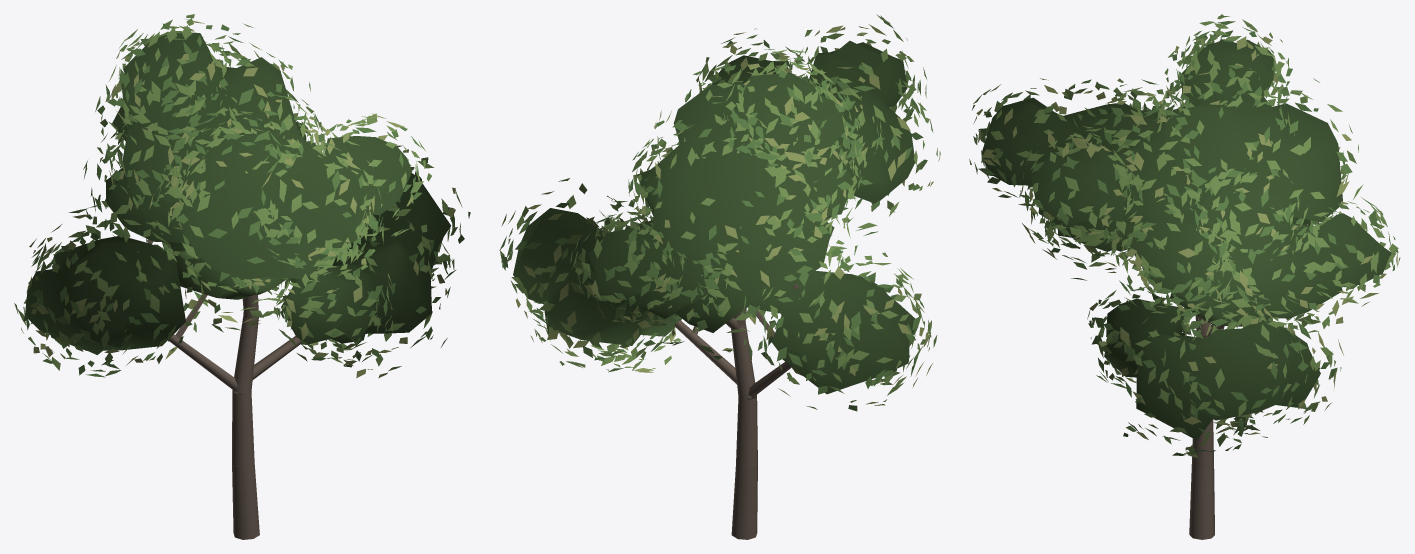
Rendered from ZR_LeafyTree.fbx.
The picture shows the model from 3 angles, left to right: view 1: azimuth 30°, elevation 25°; view 2: azimuth 150°, elevation 25°; view 3: azimuth 270°, elevation 25°; orthographic projection. The views are drawn at different scales.
Visible parts, largest first — view 1: ZR_LeafyTree; view 2: ZR_LeafyTree; view 3: ZR_LeafyTree.
Boxes of the visible parts, x1,y1,x2,y2 form: ZR_LeafyTree: (14, 14, 470, 539); ZR_LeafyTree: (499, 14, 940, 539); ZR_LeafyTree: (969, 14, 1400, 539).
Size of the model in its own units: 7.38 by 8.34 by 6.66.
